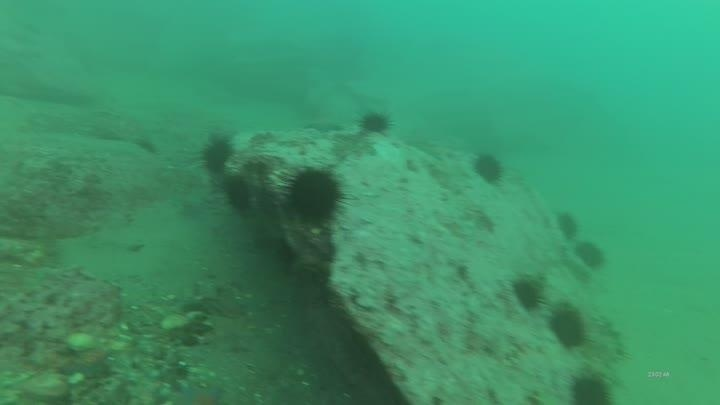echinus: (281, 164, 348, 227), (546, 304, 589, 352), (198, 133, 236, 176), (509, 274, 547, 314), (568, 372, 613, 404), (221, 176, 255, 214), (471, 151, 506, 186), (573, 239, 608, 272), (357, 108, 394, 137), (554, 209, 581, 241)
starfish: (61, 345, 115, 380), (173, 379, 226, 403), (302, 116, 345, 135)
